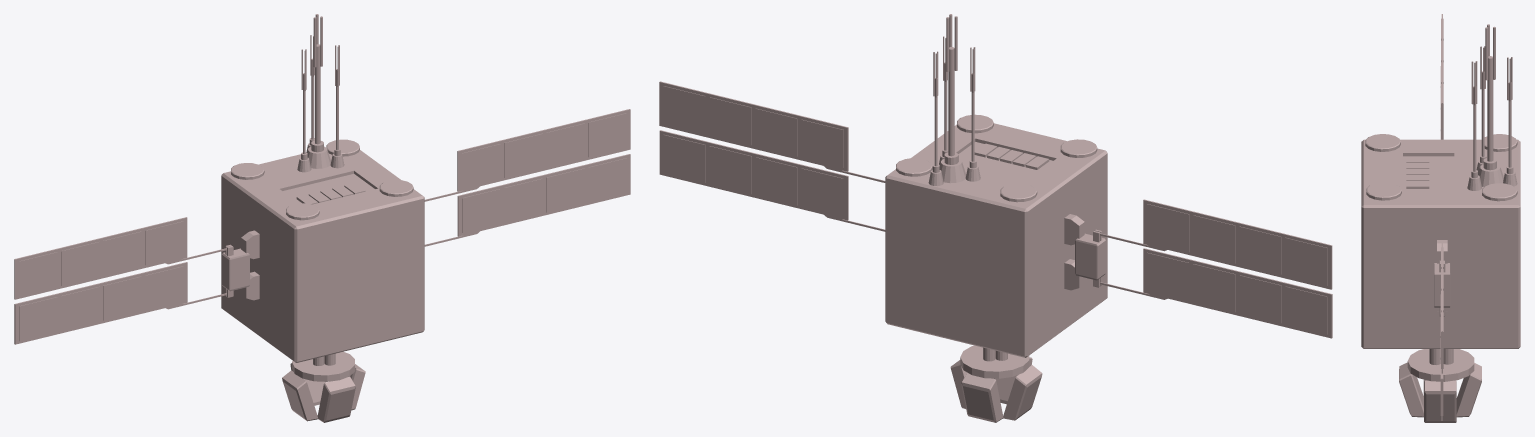
The model's file is Satelite.obj.
3 views of the same model, side by side, from view 1: azimuth 30°, elevation 25°; view 2: azimuth 150°, elevation 25°; view 3: azimuth 270°, elevation 25° (orthographic). The views are drawn at different scales.
Parts seen in each view (by area): view 1: Satelite_Circle.005; view 2: Satelite_Circle.005; view 3: Satelite_Circle.005.
Part boxes in pixels (bbox=[...]): Satelite_Circle.005: bbox=[14, 14, 630, 422]; Satelite_Circle.005: bbox=[659, 14, 1332, 422]; Satelite_Circle.005: bbox=[1361, 14, 1520, 422].
Bounding box in the file's own units: 9.43 × 5.46 × 2.
